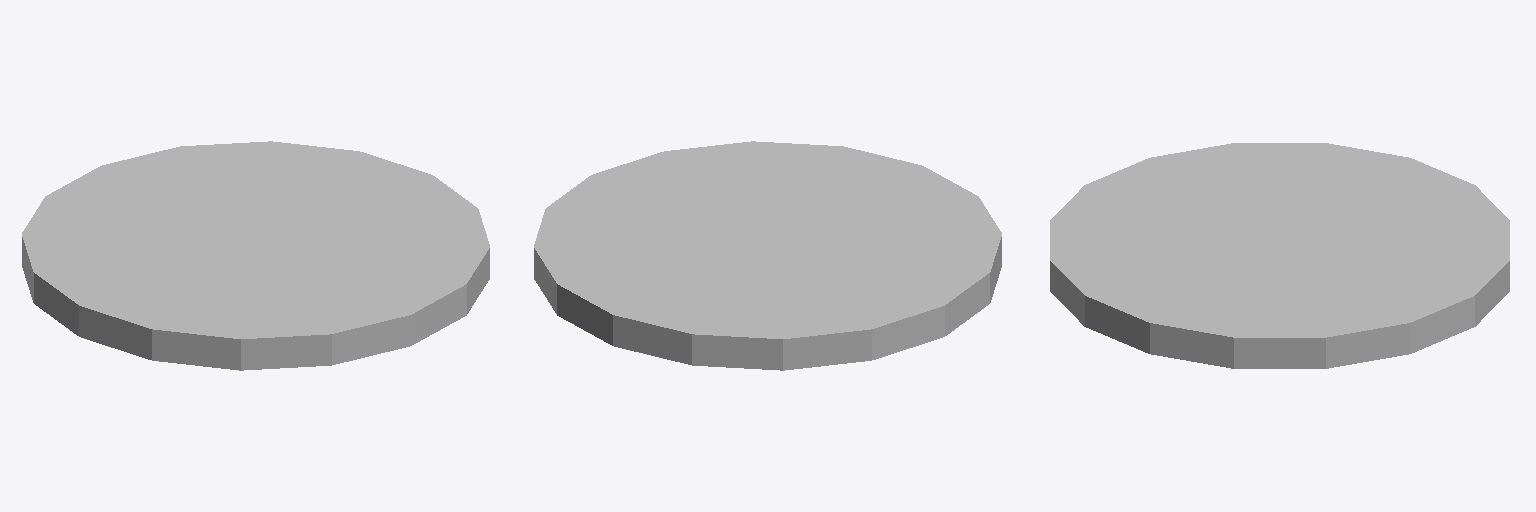
The model's file is Arrow_Decoupler_A_Collider.obj.
The picture shows the model from 3 angles: view 1: azimuth 30°, elevation 25°; view 2: azimuth 150°, elevation 25°; view 3: azimuth 270°, elevation 25°; orthographic projection.
Parts seen in each view (by area): view 1: Arrow_Decoupler_A_Collider; view 2: Arrow_Decoupler_A_Collider; view 3: Arrow_Decoupler_A_Collider.
Boxes of the visible parts, x1,y1,x2,y2 form: Arrow_Decoupler_A_Collider: [22, 141, 489, 370]; Arrow_Decoupler_A_Collider: [534, 141, 1001, 370]; Arrow_Decoupler_A_Collider: [1050, 143, 1509, 368].
Size of the model in its own units: 1.25 by 0.0938 by 1.25.